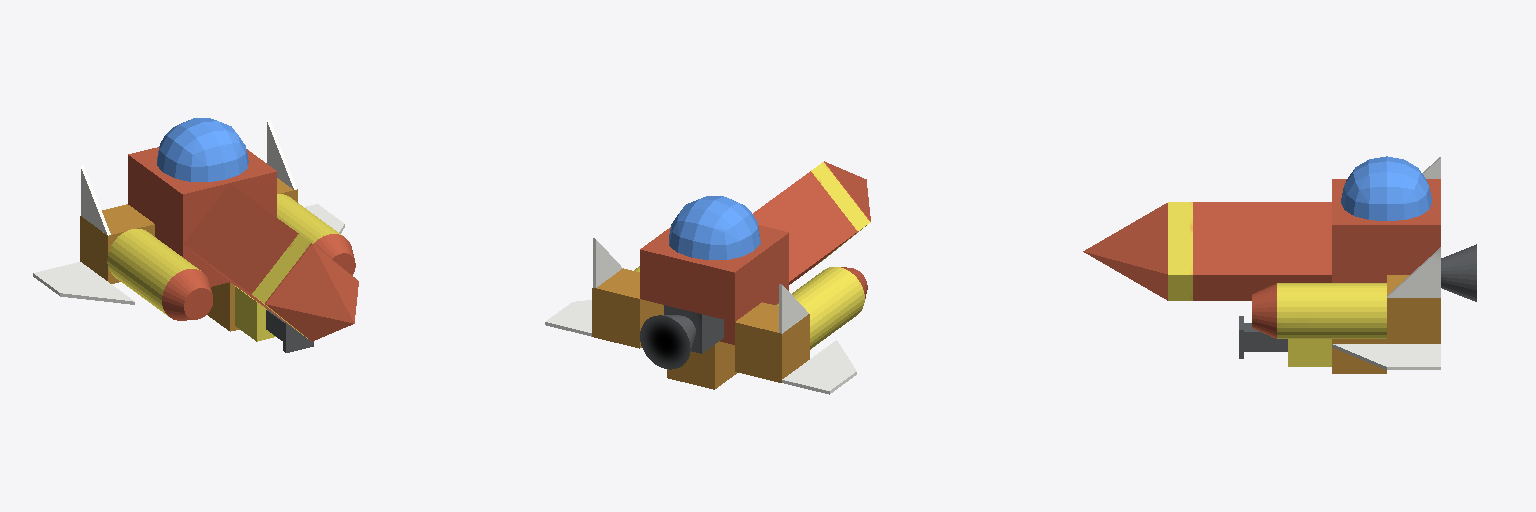
3 views of the same model, side by side, from view 1: azimuth 30°, elevation 25°; view 2: azimuth 150°, elevation 25°; view 3: azimuth 270°, elevation 25° (orthographic).
Parts seen in each view (by area): view 1: 立方体.003; view 2: 立方体.003; view 3: 立方体.003.
Boxes of the visible parts, x1=… form: 立方体.003: x1=33, y1=118, x2=358, y2=352; 立方体.003: x1=545, y1=161, x2=870, y2=394; 立方体.003: x1=1083, y1=156, x2=1476, y2=373.
Bounding box in the file's own units: 6 × 3.82 × 7.2.
Materials: 1 (1 with a texture image).